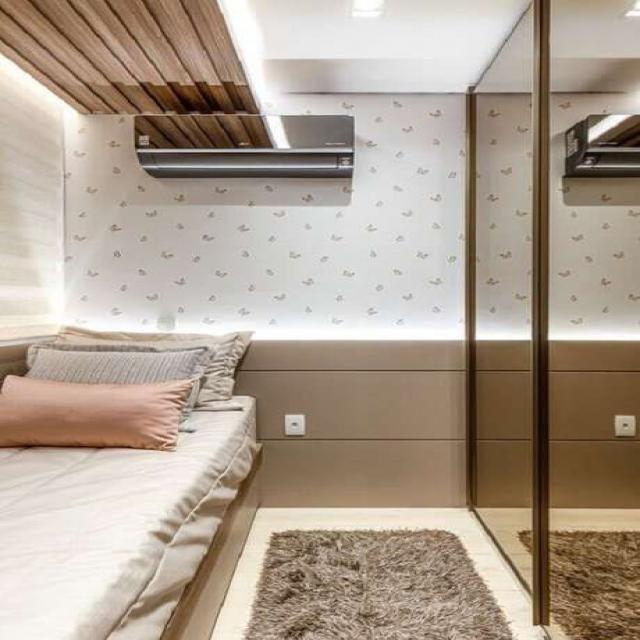AC: (132, 113, 355, 176)
